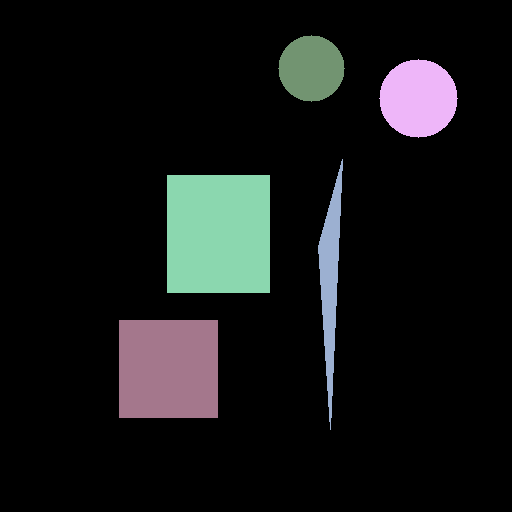circle: (379, 59, 457, 137), (278, 35, 344, 101)
rectangle: (167, 175, 269, 292)
square: (119, 320, 217, 417)
triangle: (318, 159, 342, 429)
